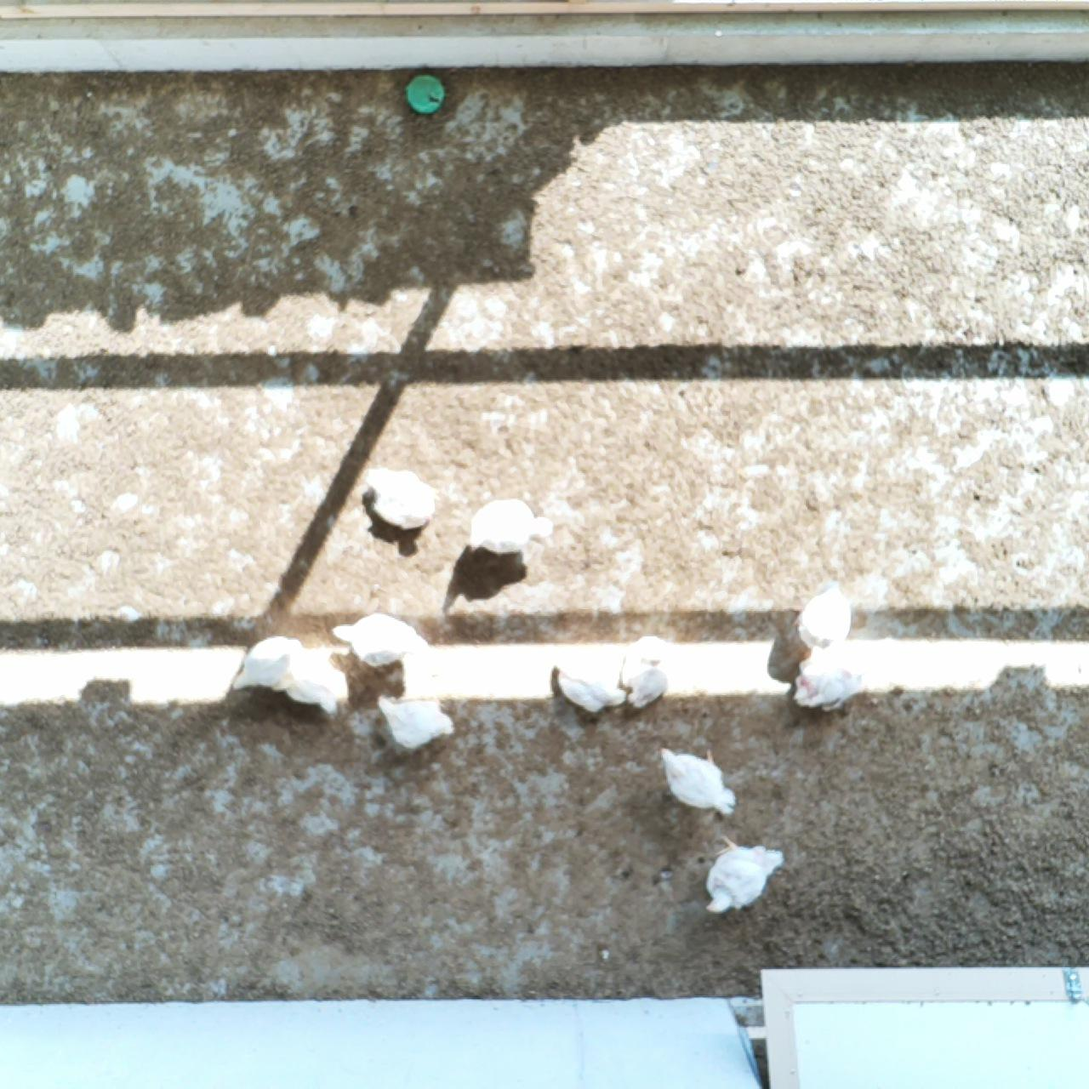chicken: (703, 831, 787, 917), (330, 608, 437, 669), (656, 743, 739, 821), (790, 639, 865, 716), (466, 494, 556, 558), (359, 462, 440, 533), (550, 651, 626, 721), (279, 649, 352, 719), (376, 692, 457, 753), (789, 577, 853, 654), (231, 634, 306, 695), (619, 633, 675, 708)
